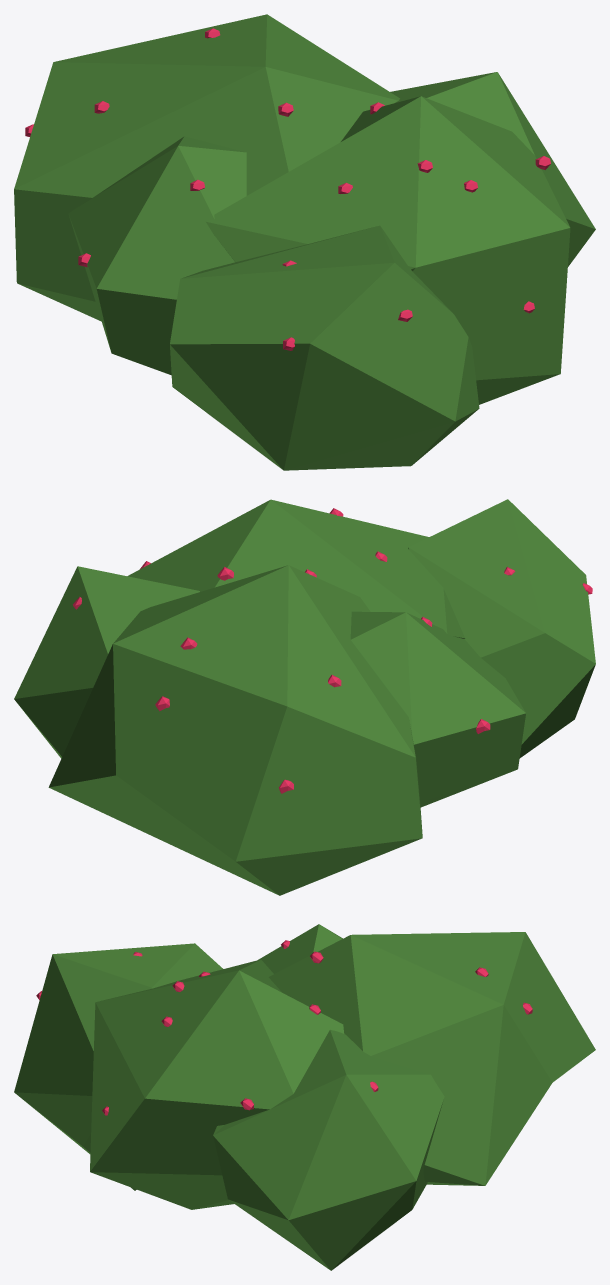
The model's file is bush1.glb.
3 views of the same model, one above another, from view 1: azimuth 30°, elevation 25°; view 2: azimuth 150°, elevation 25°; view 3: azimuth 270°, elevation 25° (orthographic). The views are drawn at different scales.
Parts seen in each view (by area): view 1: Cube.001, Cube.002, Cube, Cube.004, Cube.003; view 2: Cube, Cube.001, Cube.004, Cube.002, Cube.003; view 3: Cube, Cube.002, Cube.003, Cube.001, Cube.004.
Part boxes in pixels (x1,y1,x2,y2): Cube.001: [170, 225, 479, 470]; Cube.002: [206, 96, 570, 404]; Cube: [14, 14, 399, 321]; Cube.004: [68, 136, 246, 375]; Cube.003: [390, 72, 595, 266]; Cube: [48, 565, 422, 895]; Cube.001: [408, 499, 595, 758]; Cube.004: [350, 611, 525, 807]; Cube.002: [127, 499, 465, 638]; Cube.003: [14, 566, 199, 758]; Cube: [268, 932, 595, 1185]; Cube.002: [90, 959, 344, 1209]; Cube.003: [213, 1029, 444, 1270]; Cube.001: [14, 943, 222, 1190]; Cube.004: [257, 924, 342, 973].
Size of the model in its own units: 0.5082 by 0.3069 by 0.6195.
